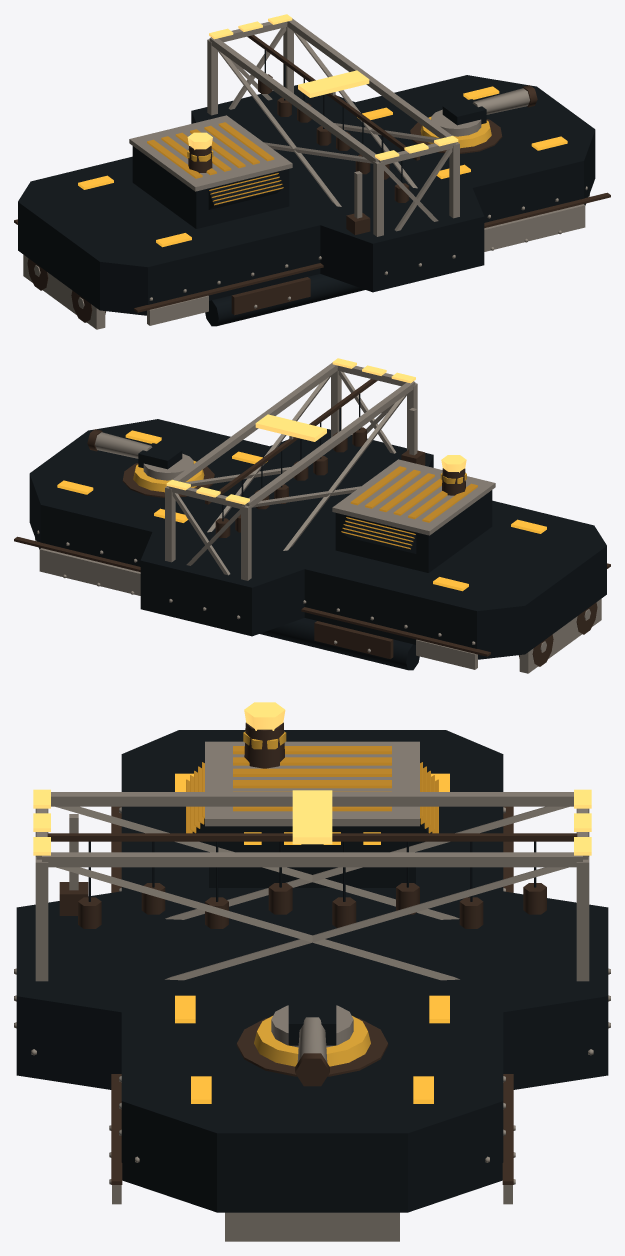
The model's file is derrick-bathyarch.glb.
3 views of the same model, one above another, from view 1: azimuth 30°, elevation 25°; view 2: azimuth 150°, elevation 25°; view 3: azimuth 270°, elevation 25° (orthographic). The views are drawn at different scales.
Visible parts, largest first — view 1: hull_slab, machinery_house, house_roof, flank_plate_s0, ballast_s, frame_cross_aft, frame_cross_fwd, flank_plate_s1, louvre_well_s, flank_seam_s0, cradle_lamp, transom_plate (+25 smaller); view 2: hull_slab, machinery_house, house_roof, flank_plate_p0, ballast_p, frame_cross_aft, frame_cross_fwd, flank_plate_p1, louvre_well_p, flank_seam_p0, cradle_lamp, transom_plate (+24 smaller); view 3: hull_slab, house_roof, frame_cross_fwd, frame_cross_aft, machinery_house, bow_plate, cradle_rail, brace_fwd_0, brace_fwd_1, barbette_ring, cradle_lamp, brace_aft_0 (+22 smaller).
Part boxes in pixels (x1=…): hull_slab: x1=18, y1=75, x2=595, y2=315; machinery_house: x1=132, y1=146, x2=289, y2=228; house_roof: x1=129, y1=115, x2=292, y2=191; flank_plate_s0: x1=484, y1=204, x2=585, y2=251; ballast_s: x1=205, y1=274, x2=364, y2=326; frame_cross_aft: x1=209, y1=37, x2=378, y2=163; frame_cross_fwd: x1=287, y1=18, x2=457, y2=142; flank_plate_s1: x1=231, y1=277, x2=310, y2=315; louvre_well_s: x1=208, y1=174, x2=281, y2=209; flank_seam_s0: x1=134, y1=263, x2=323, y2=312; cradle_lamp: x1=298, y1=70, x2=369, y2=97; transom_plate: x1=23, y1=254, x2=105, y2=329; hull_slab: x1=29, y1=419, x2=606, y2=659; machinery_house: x1=335, y1=490, x2=492, y2=572; house_roof: x1=332, y1=459, x2=495, y2=535; flank_plate_p0: x1=39, y1=548, x2=140, y2=595; ballast_p: x1=260, y1=618, x2=419, y2=670; frame_cross_aft: x1=246, y1=381, x2=415, y2=507; frame_cross_fwd: x1=167, y1=362, x2=337, y2=486; flank_plate_p1: x1=314, y1=621, x2=393, y2=659; louvre_well_p: x1=343, y1=518, x2=416, y2=553; flank_seam_p0: x1=301, y1=607, x2=490, y2=656; cradle_lamp: x1=255, y1=414, x2=326, y2=441; transom_plate: x1=519, y1=598, x2=601, y2=673; hull_slab: x1=16, y1=730, x2=608, y2=1212; house_roof: x1=205, y1=741, x2=419, y2=826; frame_cross_fwd: x1=42, y1=852, x2=582, y2=867; frame_cross_aft: x1=51, y1=792, x2=573, y2=806; machinery_house: x1=209, y1=826, x2=415, y2=887; bow_plate: x1=225, y1=1212, x2=399, y2=1241; cradle_rail: x1=47, y1=833, x2=577, y2=841; brace_fwd_0: x1=56, y1=867, x2=459, y2=980; brace_fwd_1: x1=165, y1=867, x2=568, y2=980; barbette_ring: x1=254, y1=1016, x2=370, y2=1066; cradle_lamp: x1=292, y1=790, x2=332, y2=844; brace_aft_0: x1=55, y1=806, x2=459, y2=919.
Bounding box in the file's own units: 120 × 37.2 × 75.08.
